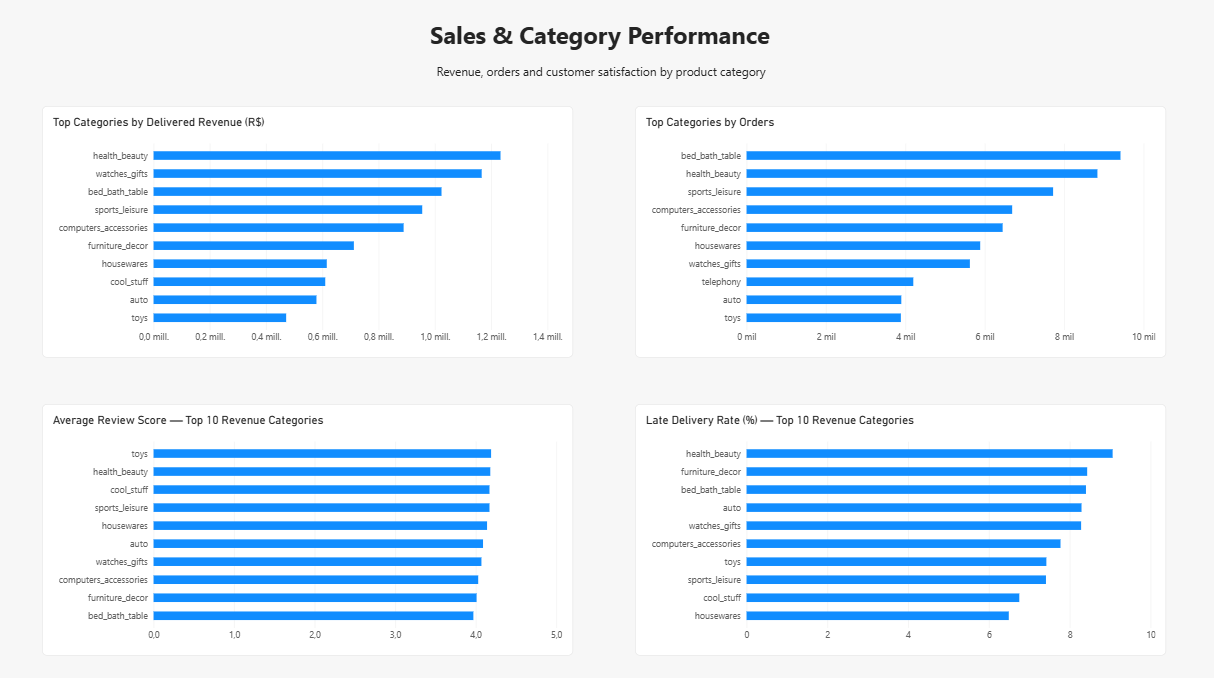

Layout of this report page (visuals, bound fields, positions):
{"tool":"powerbi","page":{"name":"2. Sales & Category Performance","canvas":[1920,1080],"ordinal":1},"visuals":[{"type":"textbox","box":[529.8,36.9,842.3,68.8],"z":0},{"type":"textbox","box":[578.8,105.8,747.5,39.7],"z":1},{"type":"clusteredBarChart","title":"Top Categories by Delivered Revenue (R$)","fields":{"Category":["03_category_performance.product_category"],"Y":["Sum(03_category_performance.delivered_item_revenue)"]},"box":[71.1,173.6,838.4,396.9],"z":2},{"type":"clusteredBarChart","title":"Top Categories by Orders","fields":{"Category":["03_category_performance.product_category"],"Y":["Sum(03_category_performance.total_orders)"]},"box":[1007.1,173.6,838.4,396.9],"z":3},{"type":"clusteredBarChart","title":"Average Review Score — Top 10 Revenue Categories","fields":{"Category":["03_category_performance.product_category"],"Y":["Sum(03_category_performance.average_review_score)"]},"box":[71.1,643.3,838.4,396.9],"z":4},{"type":"clusteredBarChart","title":"Late Delivery Rate (%) — Top 10 Revenue Categories","fields":{"Category":["03_category_performance.product_category"],"Y":["Sum(03_category_performance.late_delivery_rate_pct)"]},"box":[1007.1,643.3,838.4,396.9],"z":5}]}

Visuals, with their boxes in screenshot pixels (x1, y1, x2, y2), scaled from the page's 1920x1080 canvas onto the 1214x678 screenshot:
textbox: Rect(335, 23, 868, 66)
textbox: Rect(366, 66, 839, 91)
"Top Categories by Delivered Revenue (R$)" clusteredBarChart: Rect(45, 109, 575, 358)
"Top Categories by Orders" clusteredBarChart: Rect(637, 109, 1167, 358)
"Average Review Score — Top 10 Revenue Categories" clusteredBarChart: Rect(45, 404, 575, 653)
"Late Delivery Rate (%) — Top 10 Revenue Categories" clusteredBarChart: Rect(637, 404, 1167, 653)
